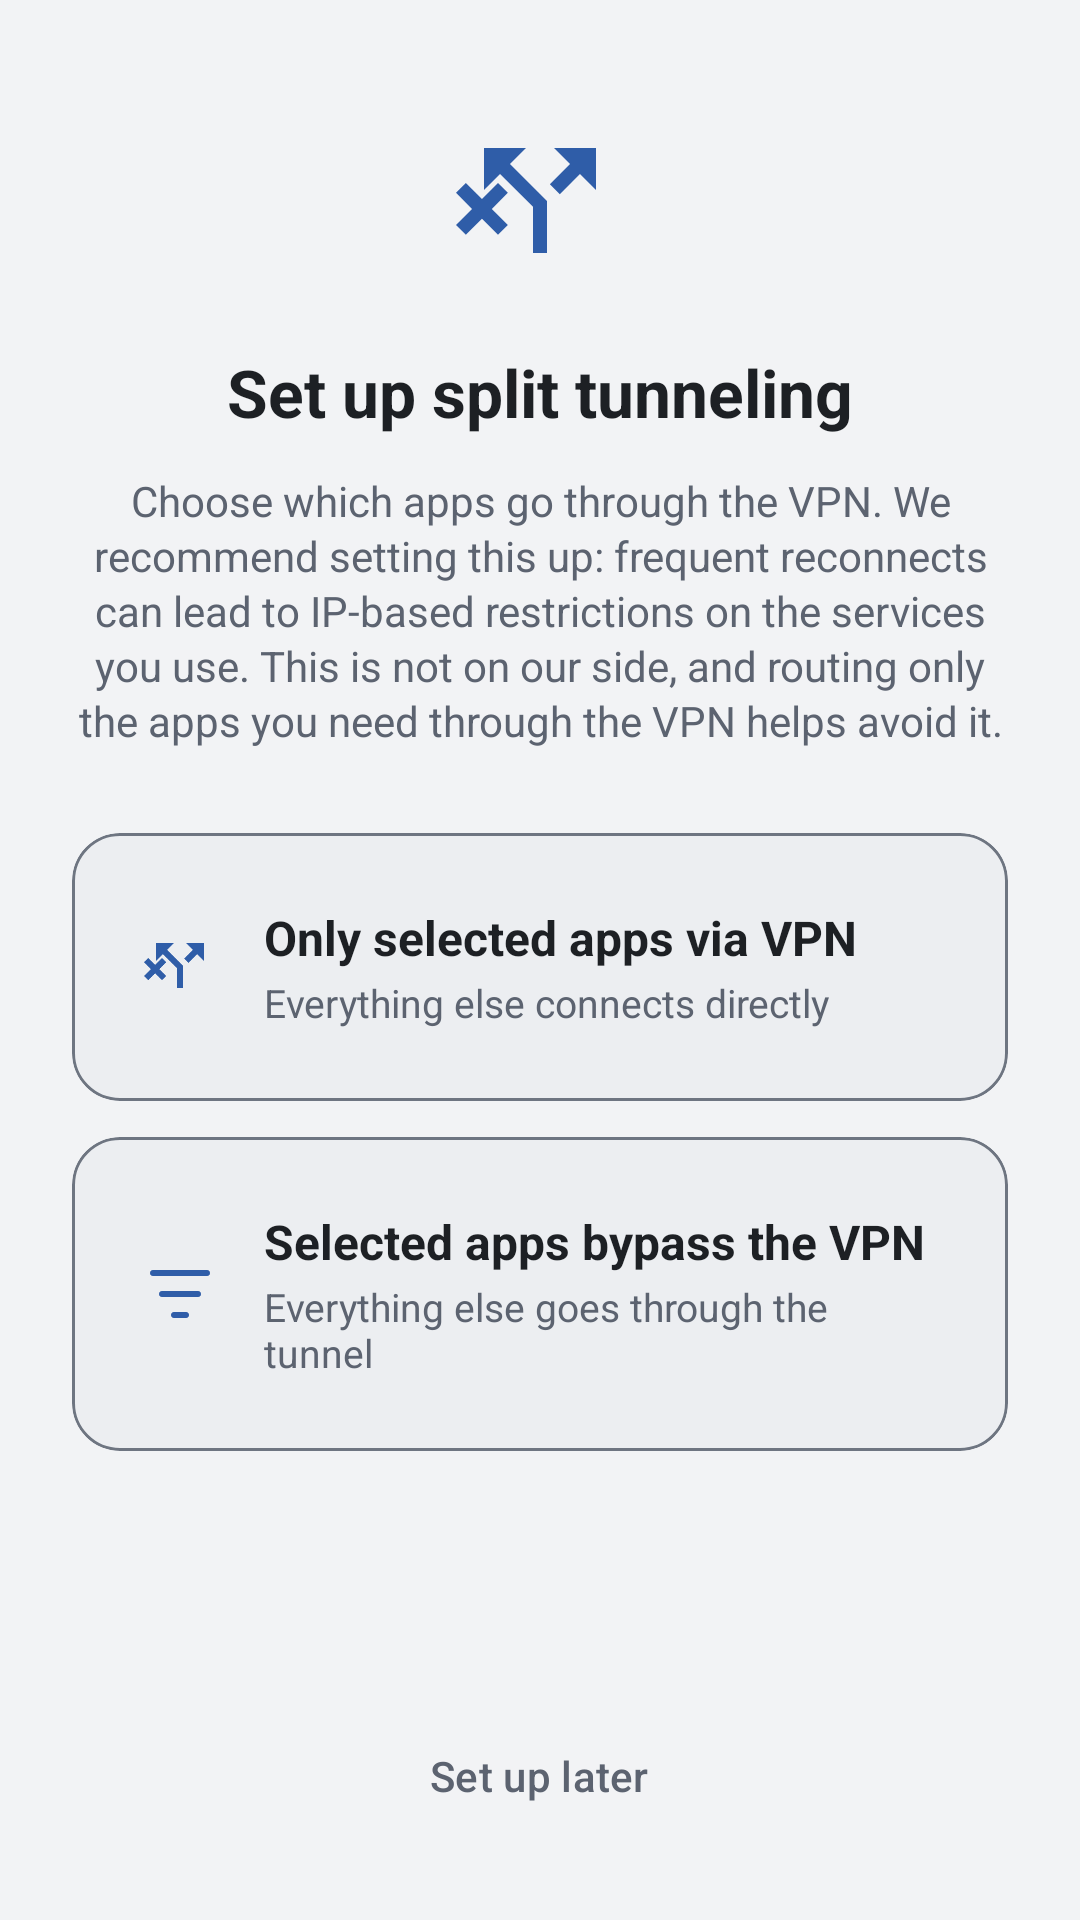

Screen size 1080*1920. Icon name, then its center in pixels as (x=x, y=y):
call split: (x=174, y=965)
filter list: (x=180, y=1294)
